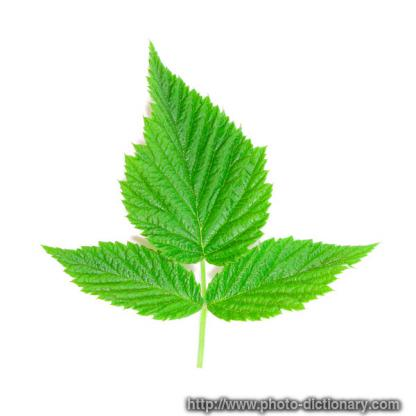raspberry leaf: (116, 38, 273, 264), (203, 233, 383, 325), (40, 236, 205, 326)
